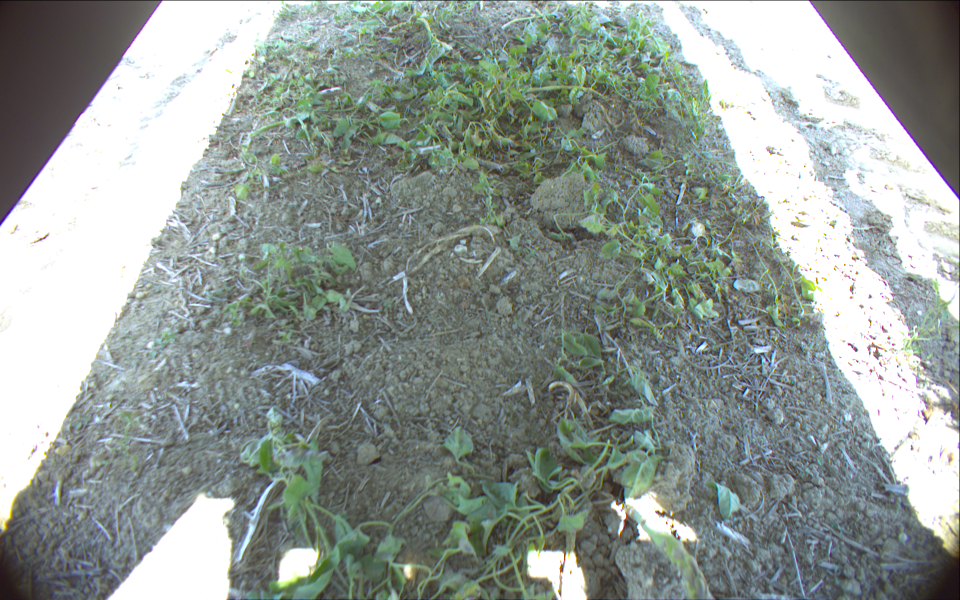aspa: (518, 85, 610, 101), (500, 13, 560, 29)
